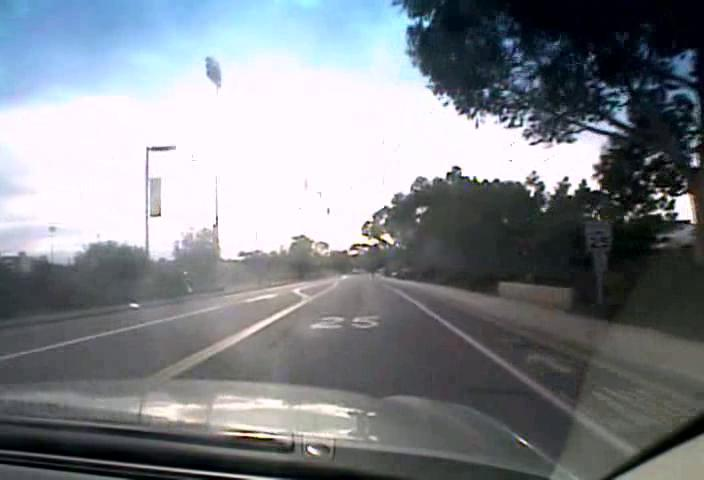speedLimit25: (583, 219, 612, 252)
